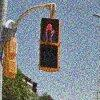traffic lights: (36, 13, 65, 71)
